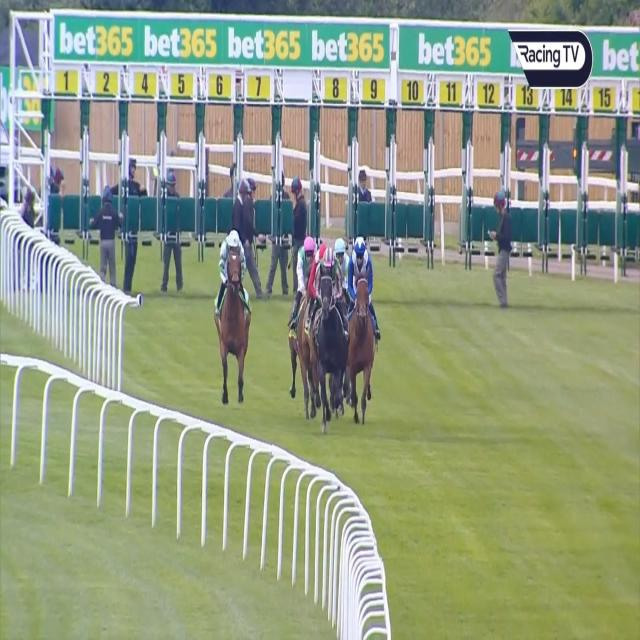horses-racing: (347, 232, 382, 420), (215, 227, 250, 397), (312, 247, 343, 413), (296, 234, 314, 338), (333, 235, 352, 303), (310, 241, 326, 305)
